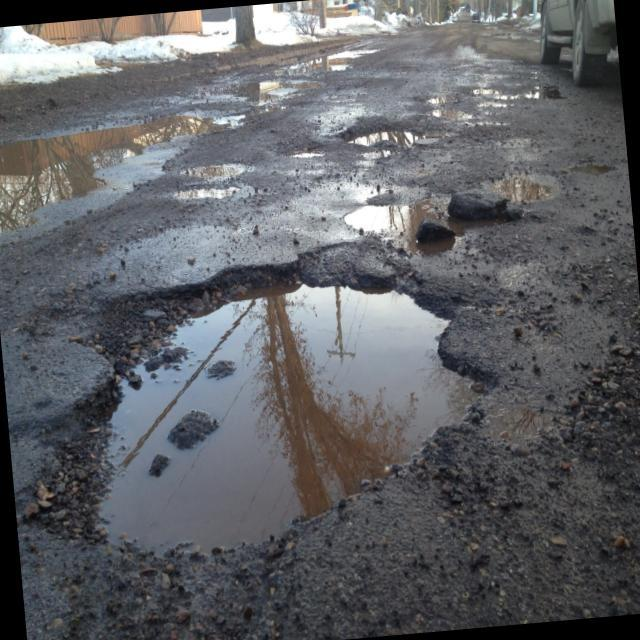Pothole: (0, 236, 566, 587), (0, 89, 222, 252), (337, 160, 562, 249), (328, 105, 470, 171), (172, 152, 276, 213), (272, 134, 336, 168)
